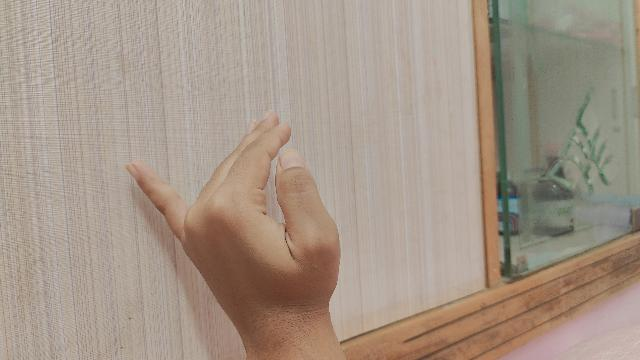Hamsapaksha: (126, 111, 345, 360)
